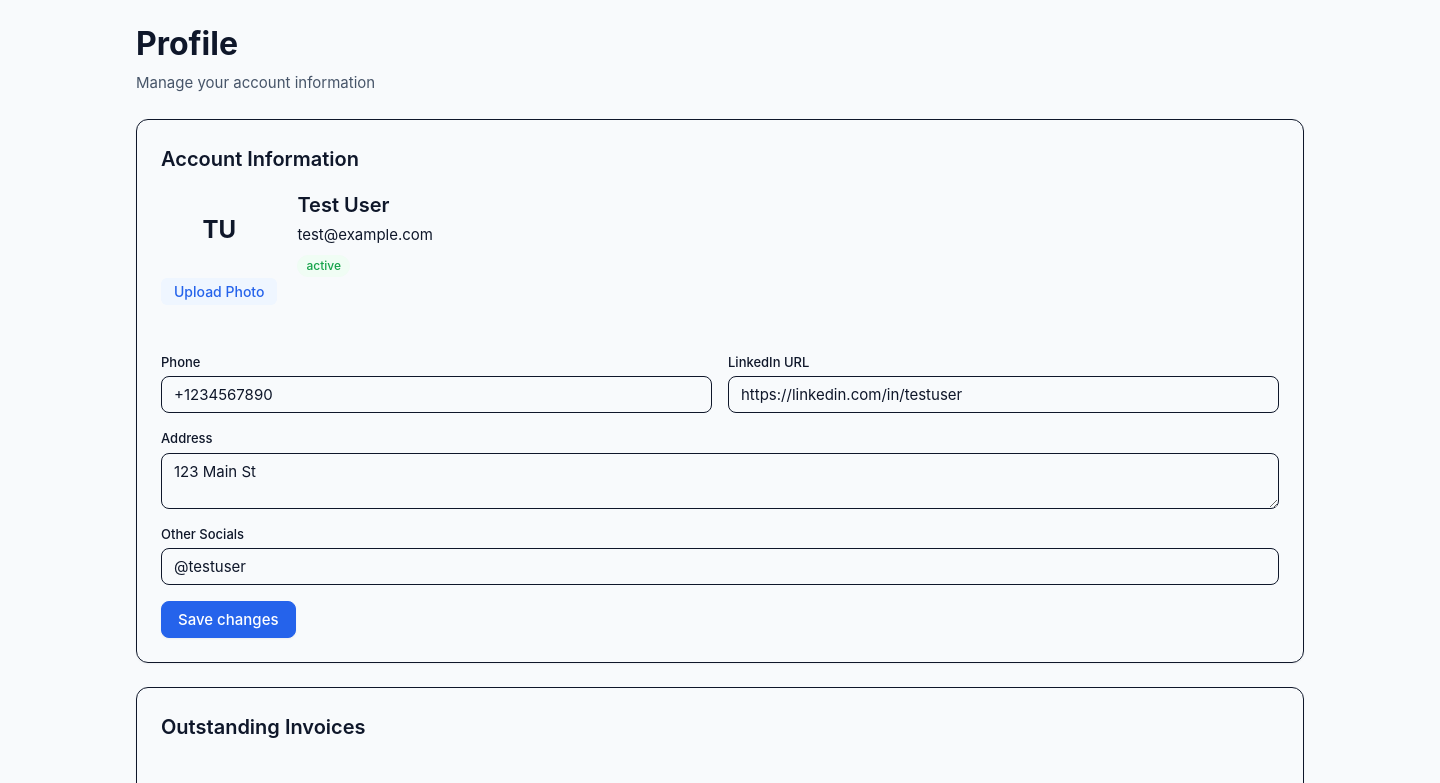
Test: ProfilePage › Updating profile › shows error toast on save failure
This screenshot has width=1440, height=783.
Check: the field showing "+1234567890" below "Phone" is shown, box [161,376,712,413]
Click the button "Save changes" at (228, 620), box [161,601,296,638]
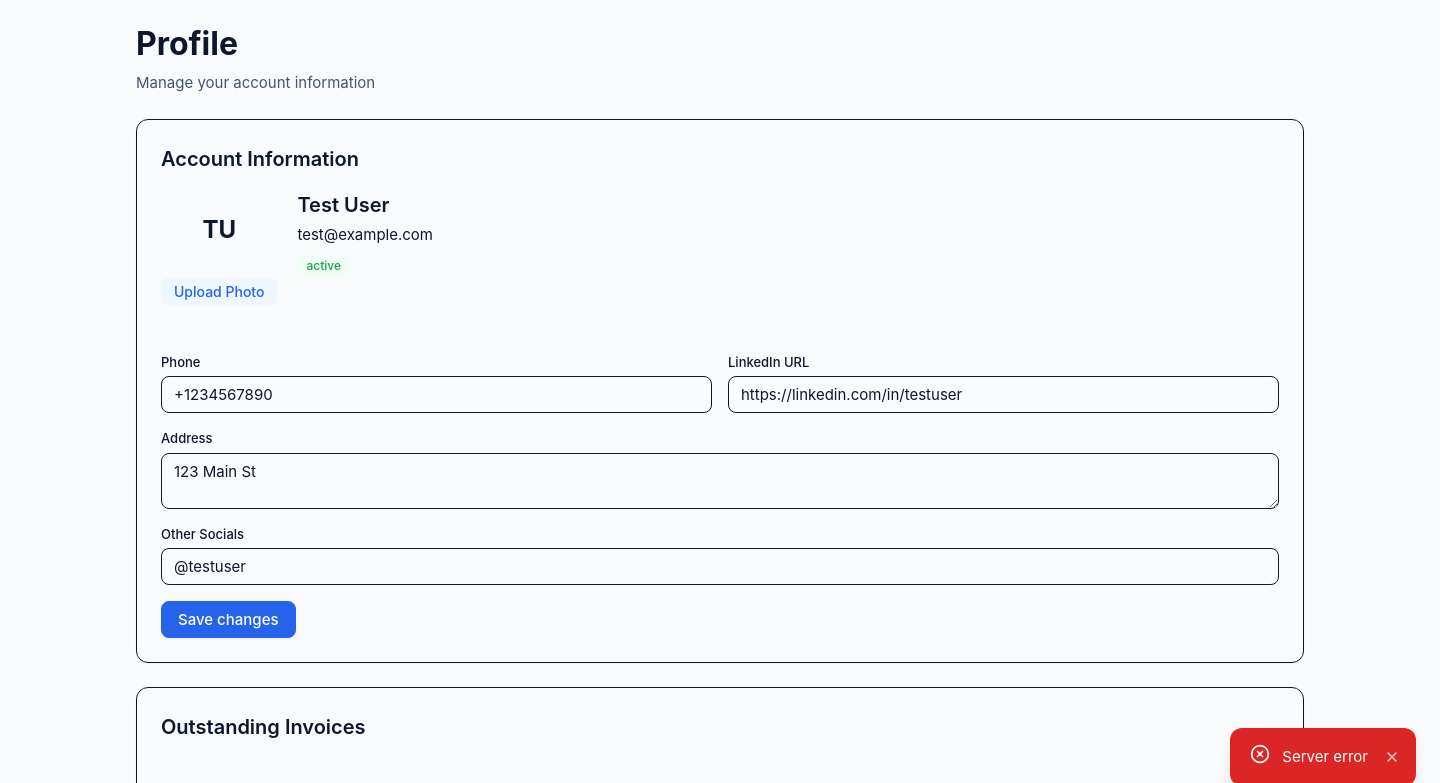
Check: the text "Server error" is shown, box [1282,746,1368,768]
